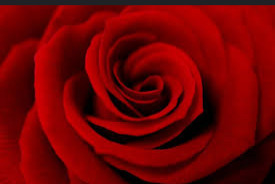RedRose: (19, 6, 274, 183)
